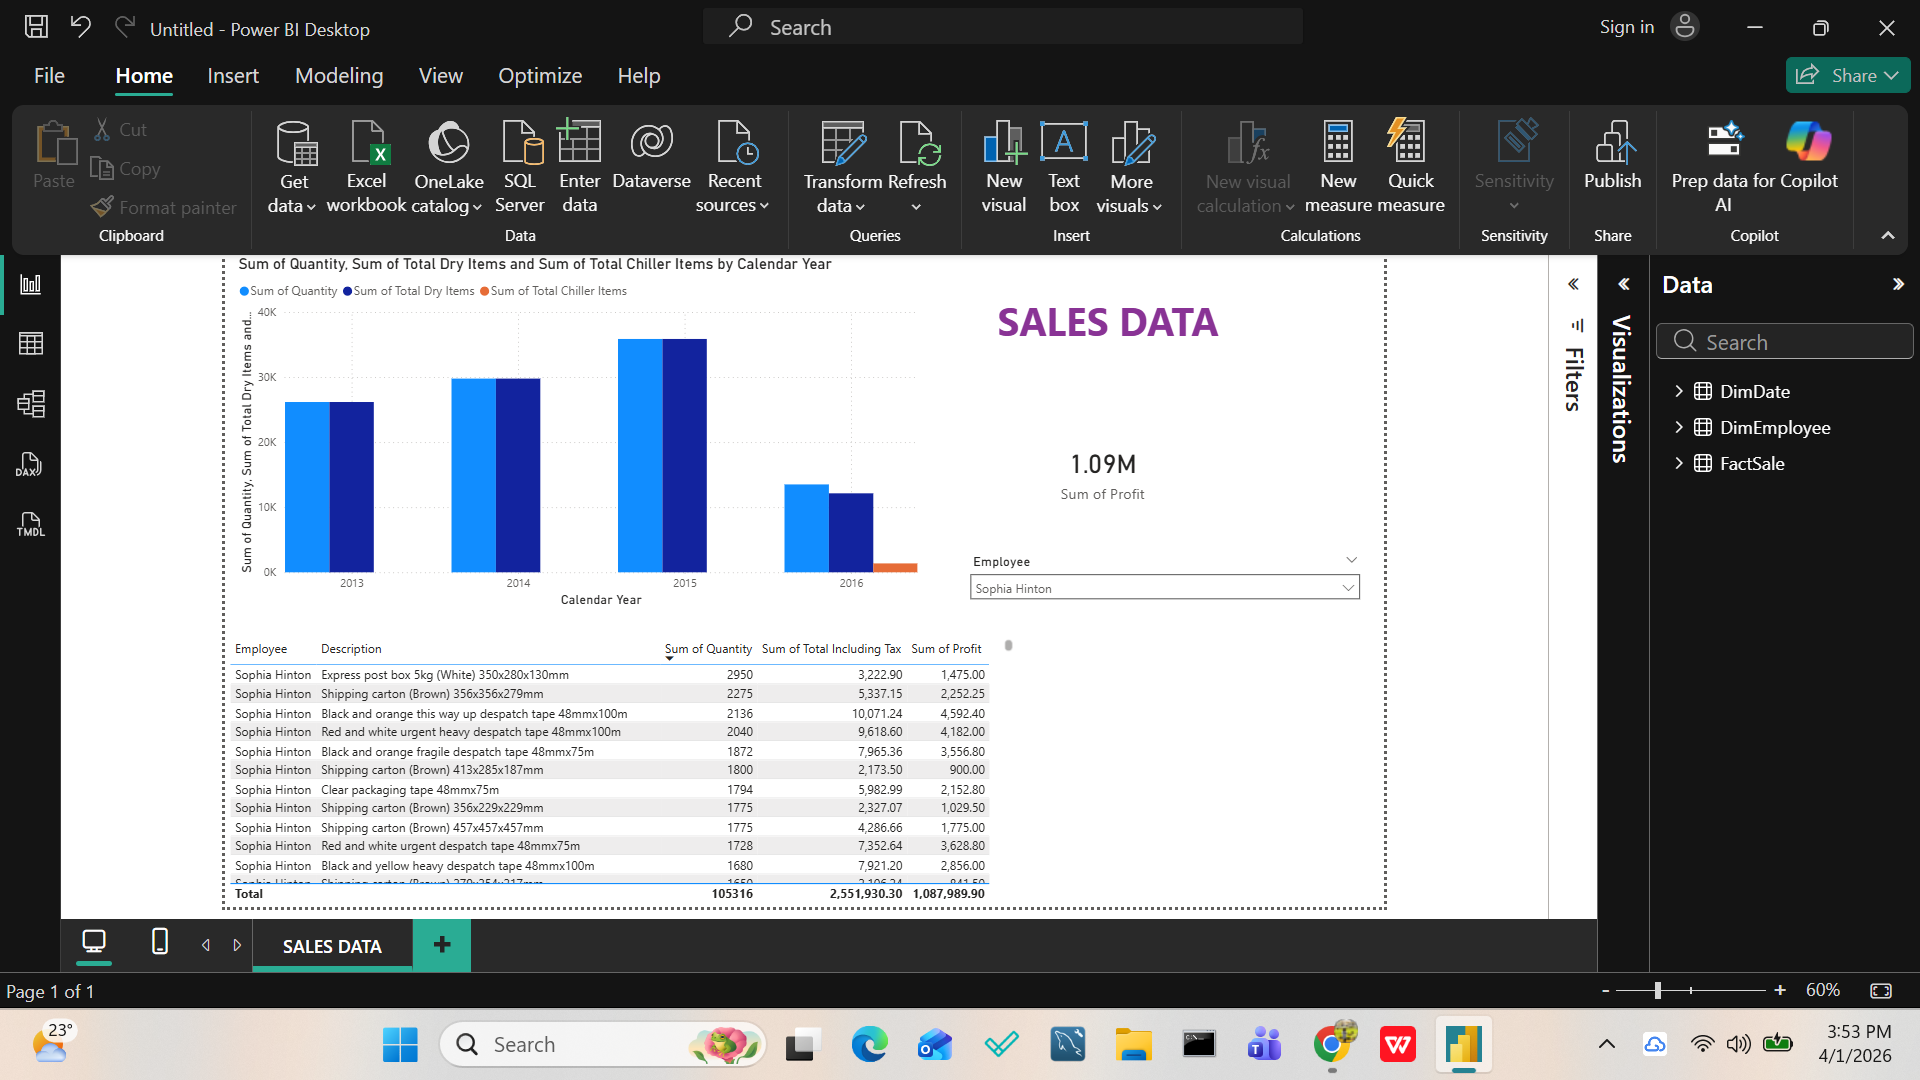

This screenshot's page, from the dashboard's own definition file:
{"tool":"powerbi","page":{"name":"SALES DATA","canvas":[1280,720],"ordinal":0},"visuals":[{"type":"clusteredColumnChart","fields":{"Y":["Sum(FactSale.Quantity)","Sum(FactSale.Total Dry Items)","Sum(FactSale.Total Chiller Items)"],"Category":["DimDate.Calendar Year"]},"box":[9.4,0,759.7,393.1],"z":0},{"type":"card","fields":{"Values":["Sum(FactSale.Profit)"]},"box":[788,117.2,360.9,241.9],"z":1},{"type":"slicer","fields":{"Values":["DimEmployee.Employee"]},"box":[812.6,325,449.8,68],"z":2},{"type":"tableEx","fields":{"Values":["DimEmployee.Employee","FactSale.Description","Sum(FactSale.Quantity)","Sum(FactSale.Total Including Tax)","Sum(FactSale.Profit)"]},"box":[0,419.5,875,300.5],"z":3},{"type":"textbox","box":[848.5,37.8,430.9,79.4],"z":4}]}

Visuals, with their boxes on the page's 1280x720 design canvas (x1, y1, x2, y2). These are canvas units, not pixel positions in the 1920x1080 screenshot, which may show the page scaled, cropped or inside an application window:
clusteredColumnChart - Sum(FactSale.Quantity) x Sum(FactSale.Total Dry Items): [left=9, top=0, right=769, bottom=393]
card - Sum(FactSale.Profit): [left=788, top=117, right=1149, bottom=359]
slicer - DimEmployee.Employee: [left=813, top=325, right=1262, bottom=393]
tableEx - DimEmployee.Employee x FactSale.Description: [left=0, top=420, right=875, bottom=720]
textbox: [left=848, top=38, right=1279, bottom=117]
